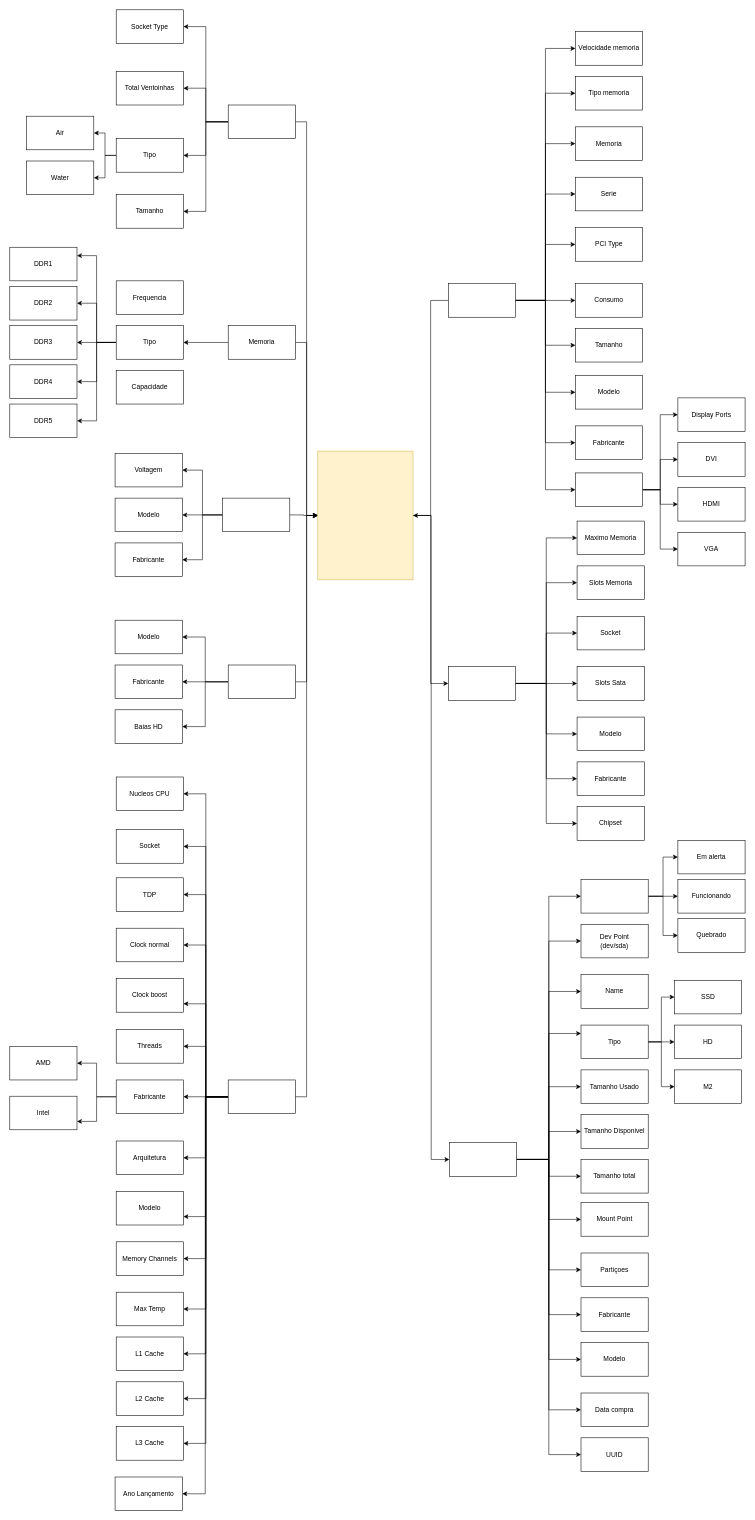
This 755x1520 diagram has some shape labels left out. Each missing label, with the centre of its shape:
Computador: (365,515)
Cooler: (261,121)
Cpu: (261,1096)
Fonte: (256,515)
Gabinete: (261,681)
Placa de video: (481,300)
Placa Mãe: (481,683)
Saidas: (609,489)
Situação: (614,896)
Storage: (483,1159)
